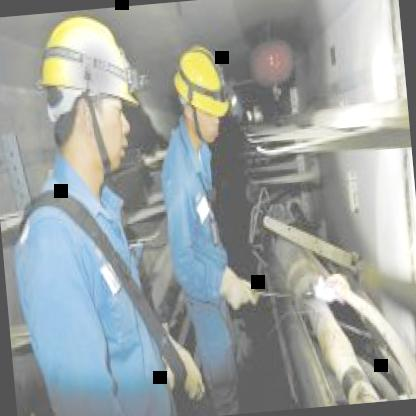helmet: (32, 7, 135, 179), (172, 43, 235, 149)
